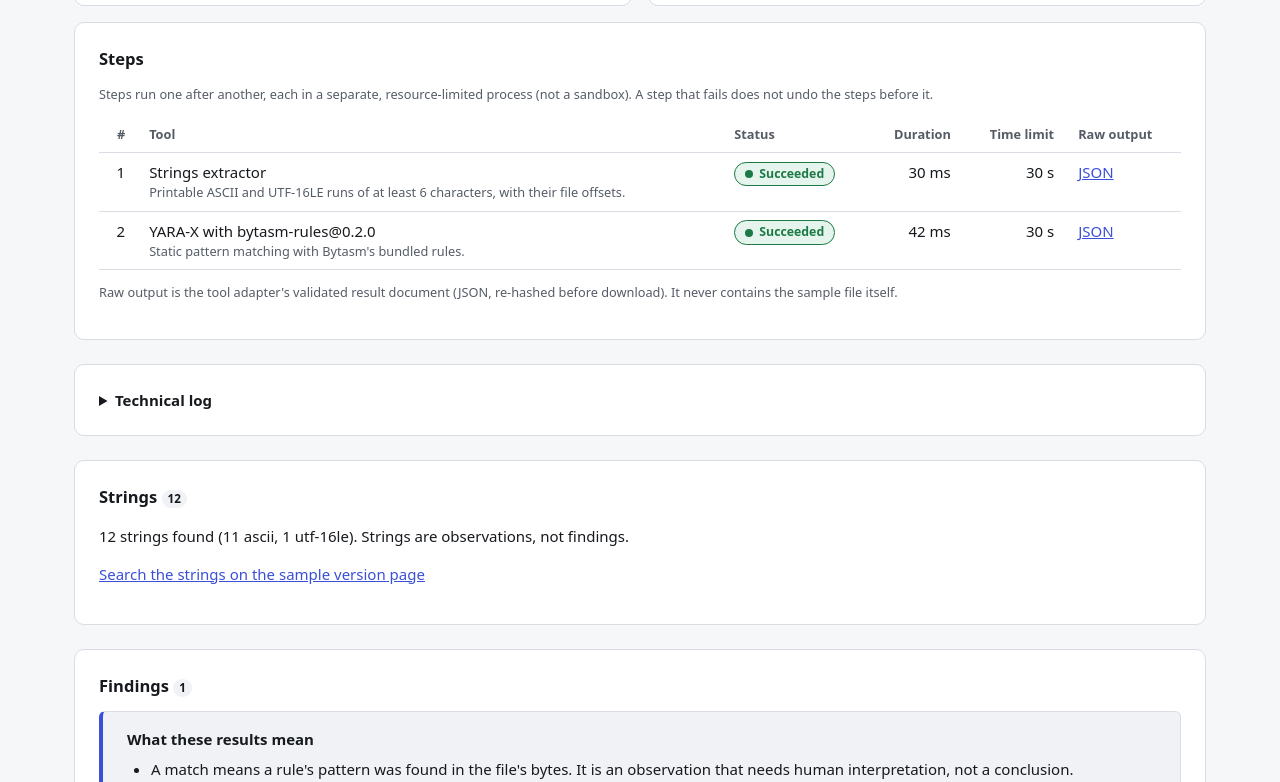
Test: Analysis run page › shows the technical log on demand and filters findings by search
(page scrolled)
Click the heading "Technical log" at {"x": 163, "y": 400}, box [115,390,212,410]
(page scrolled)
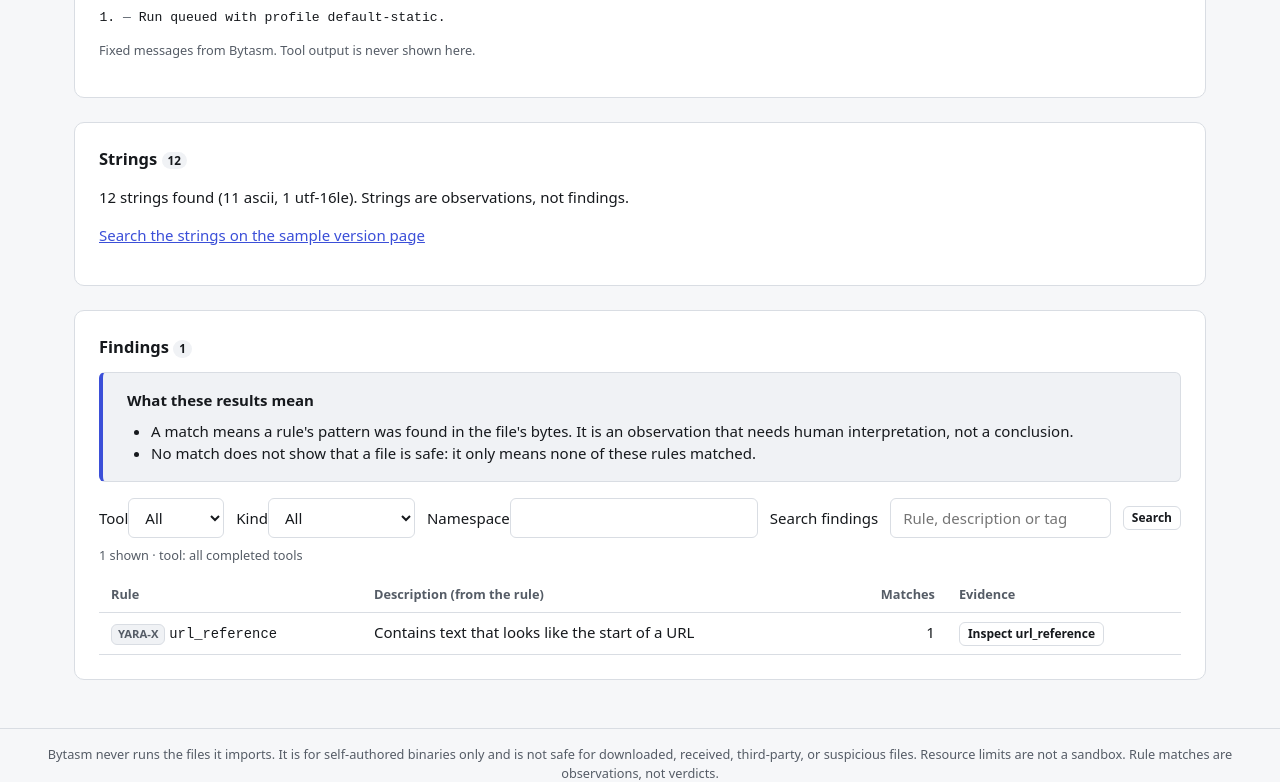
Check: the list item "— Run queued with profile default-static." is shown, box [123,10,446,25]
Type "nothing" into the search field labelled "Search findings" at {"x": 1000, "y": 518}, box [890,498,1111,538]
Then press Enter
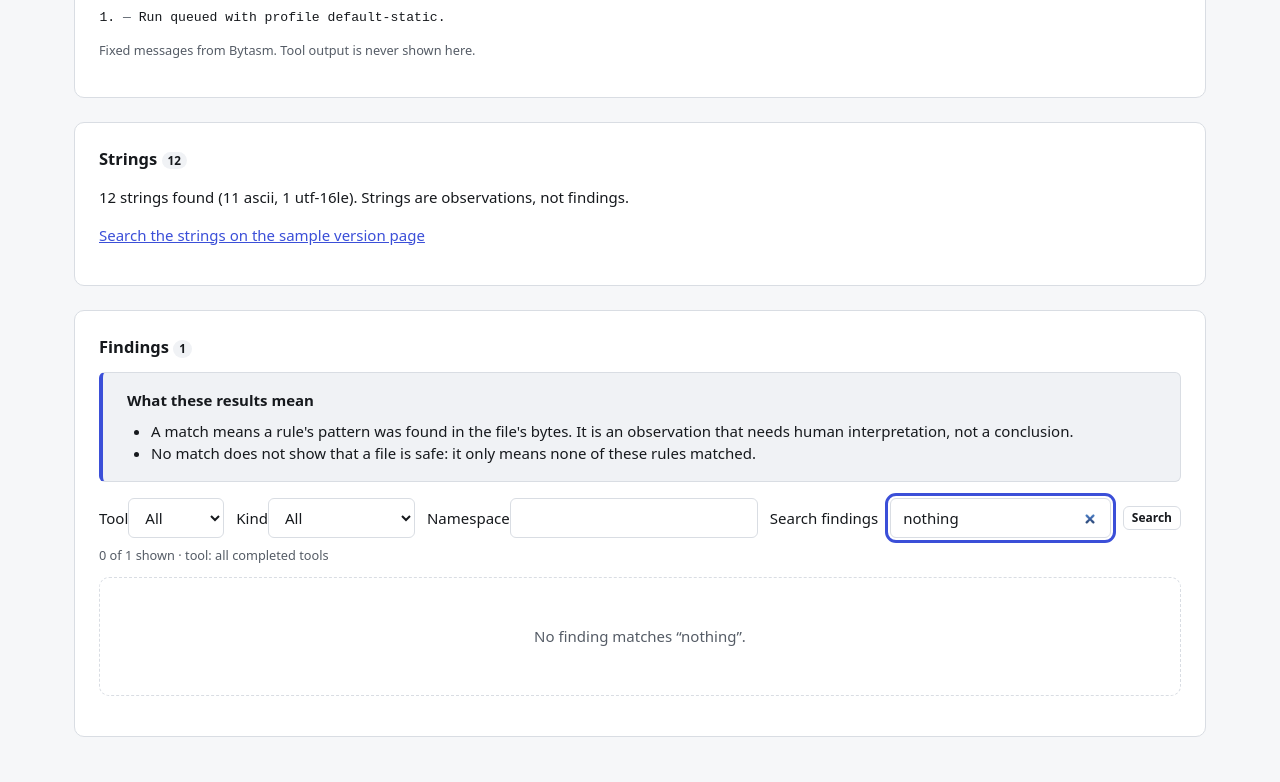
Check: the text "No finding matches “nothing”." is shown, box [534,626,746,646]
Check: the text "0 of 1 shown · tool: all completed tools" is shown, box [99,546,329,565]
